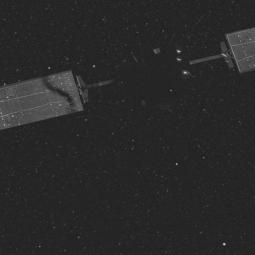smart_1: (116, 36, 196, 114)
